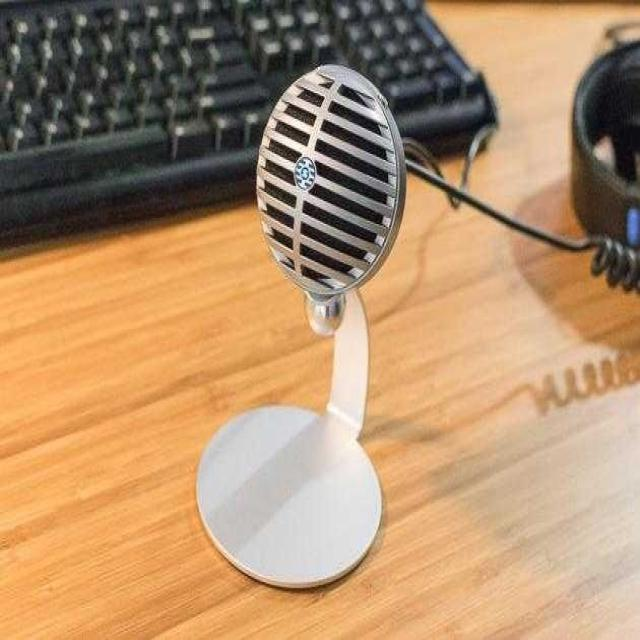microphone: (256, 65, 401, 308)
